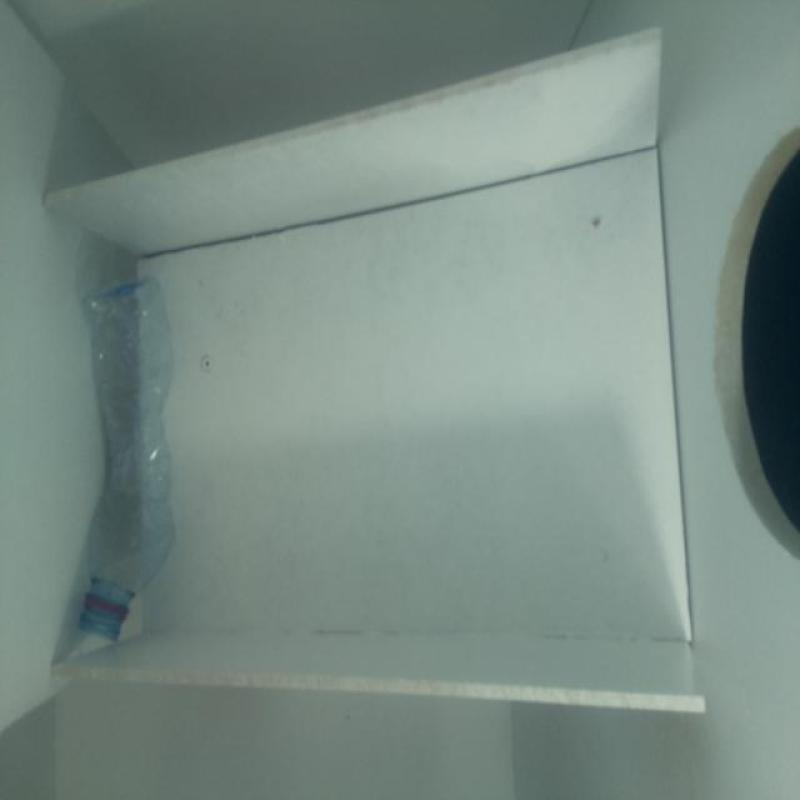botella: (78, 276, 176, 642)
